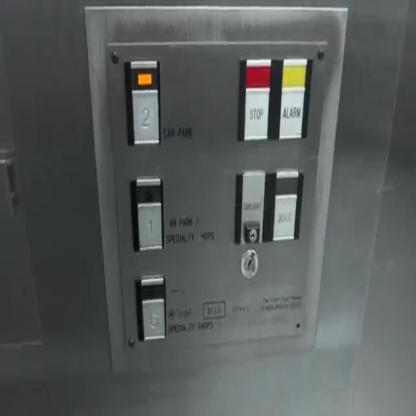1: (135, 199, 163, 253)
2: (130, 88, 160, 146)
G: (140, 294, 166, 341)
keyhole: (239, 248, 258, 279), (242, 216, 260, 245)
text: (271, 191, 297, 241)
text_alarm bell: (277, 85, 305, 140)
text_stop: (241, 84, 270, 143)
